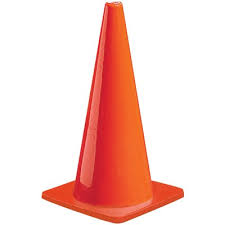cones: (44, 1, 186, 221)
